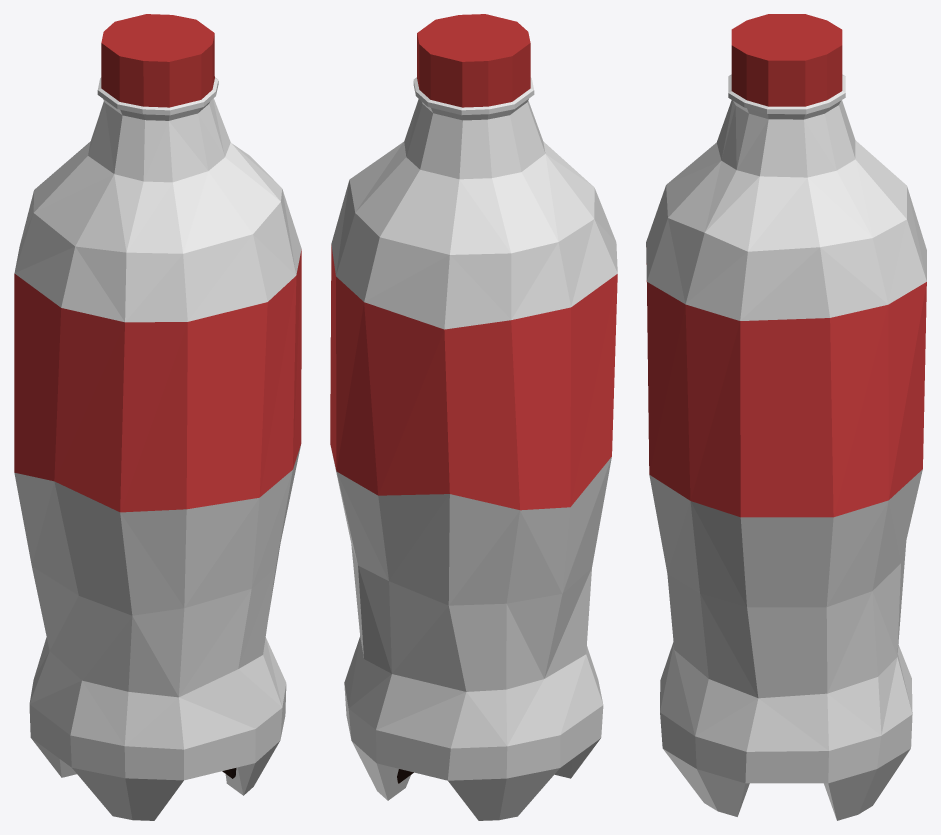
The model's file is Coca Cola.glb.
3 renders of one model, left to right at view 1: azimuth 30°, elevation 25°; view 2: azimuth 150°, elevation 25°; view 3: azimuth 270°, elevation 25°, orthographic.
Parts seen in each view (by area): view 1: Bottle; view 2: Bottle; view 3: Bottle.
Part boxes in pixels (x1,y1,x2,y2): Bottle: (14,14,301,820); Bottle: (330,14,617,820); Bottle: (646,14,926,820).
Bounding box in the file's own units: 6.03 × 17.67 × 6.02.
